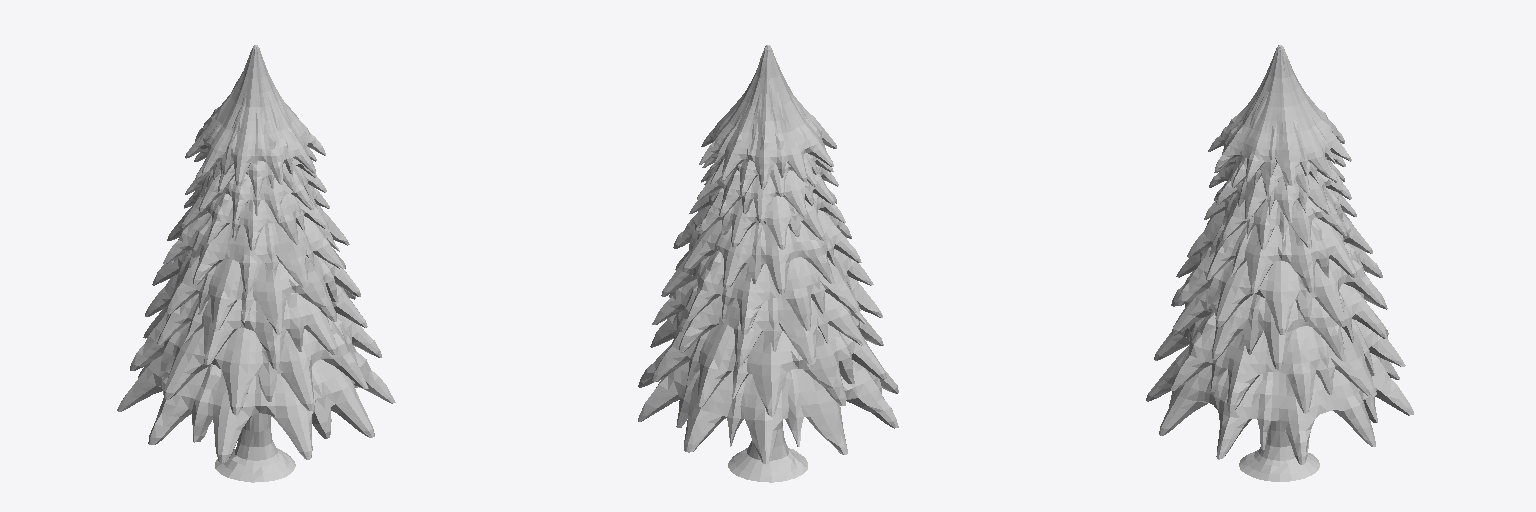
File: betterTree.obj
3 renders of one model, left to right at view 1: azimuth 30°, elevation 25°; view 2: azimuth 150°, elevation 25°; view 3: azimuth 270°, elevation 25°, orthographic.
Parts seen in each view (by area): view 1: tree; view 2: tree; view 3: tree.
Part boxes in pixels (x1,y1,x2,y2): tree: (117, 45, 395, 482); tree: (638, 45, 898, 482); tree: (1146, 45, 1413, 481).
Bounding box in the file's own units: 6.11 × 10.39 × 5.99.